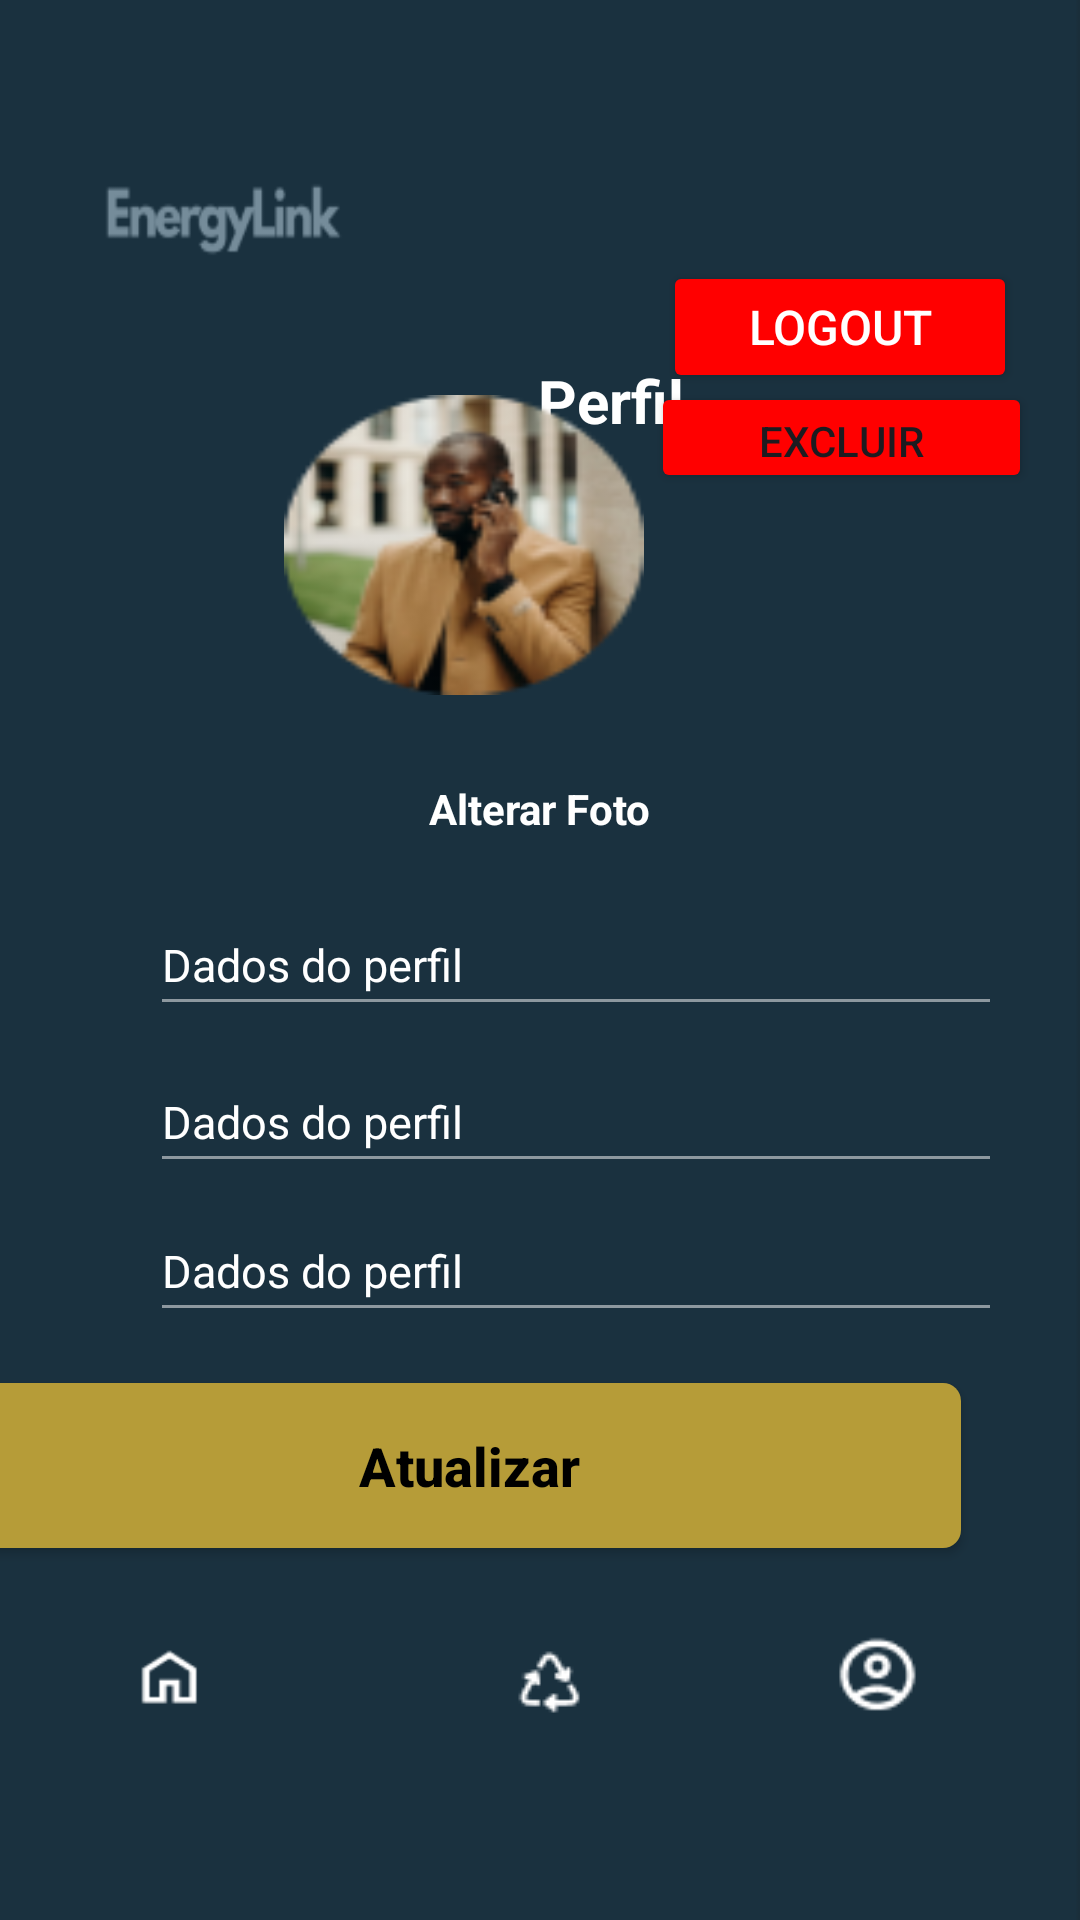

Icon bounding boxes for this 1080x1920 phone screenshot, format (x1, y1, x2, y2):
home: (141, 1650, 197, 1704)
perfil: (839, 1638, 916, 1711)
